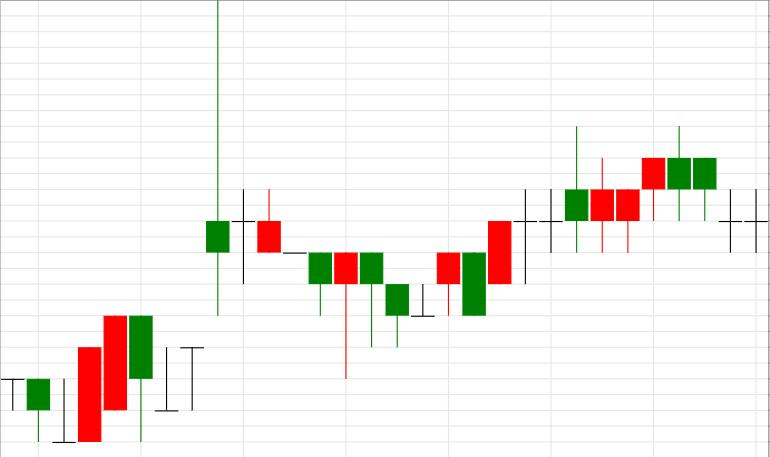hammer_rise: (232, 189, 384, 379), (232, 190, 358, 379)
